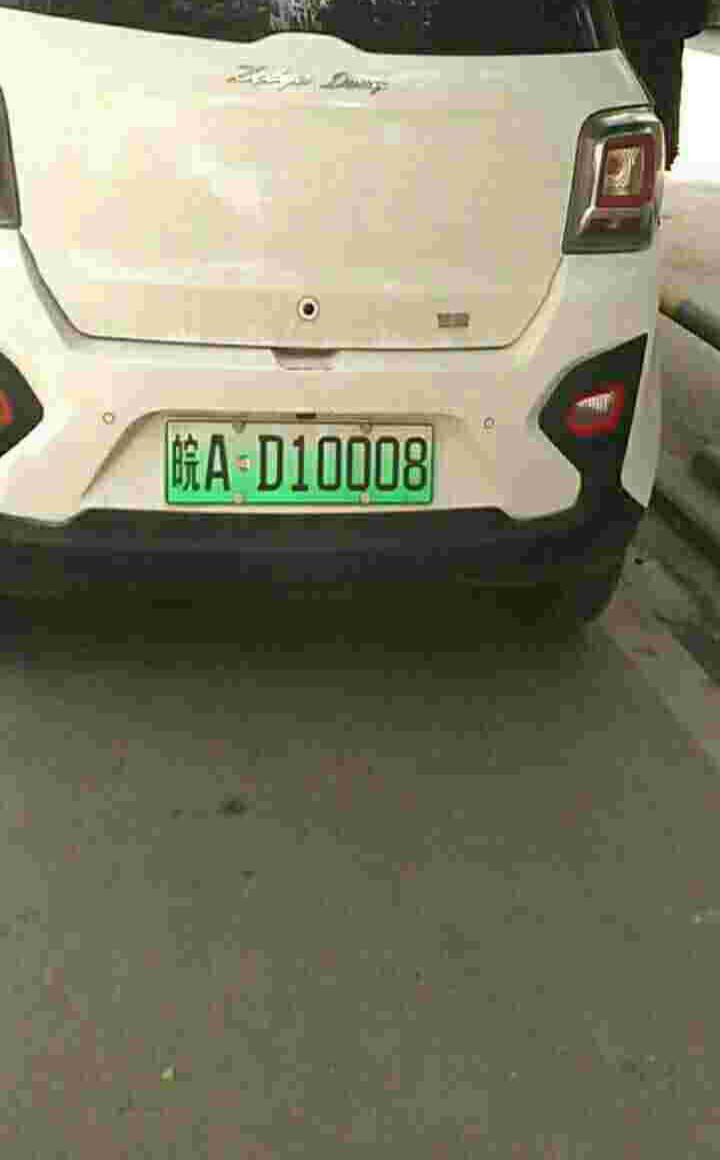car_id: (163, 416, 433, 503)
